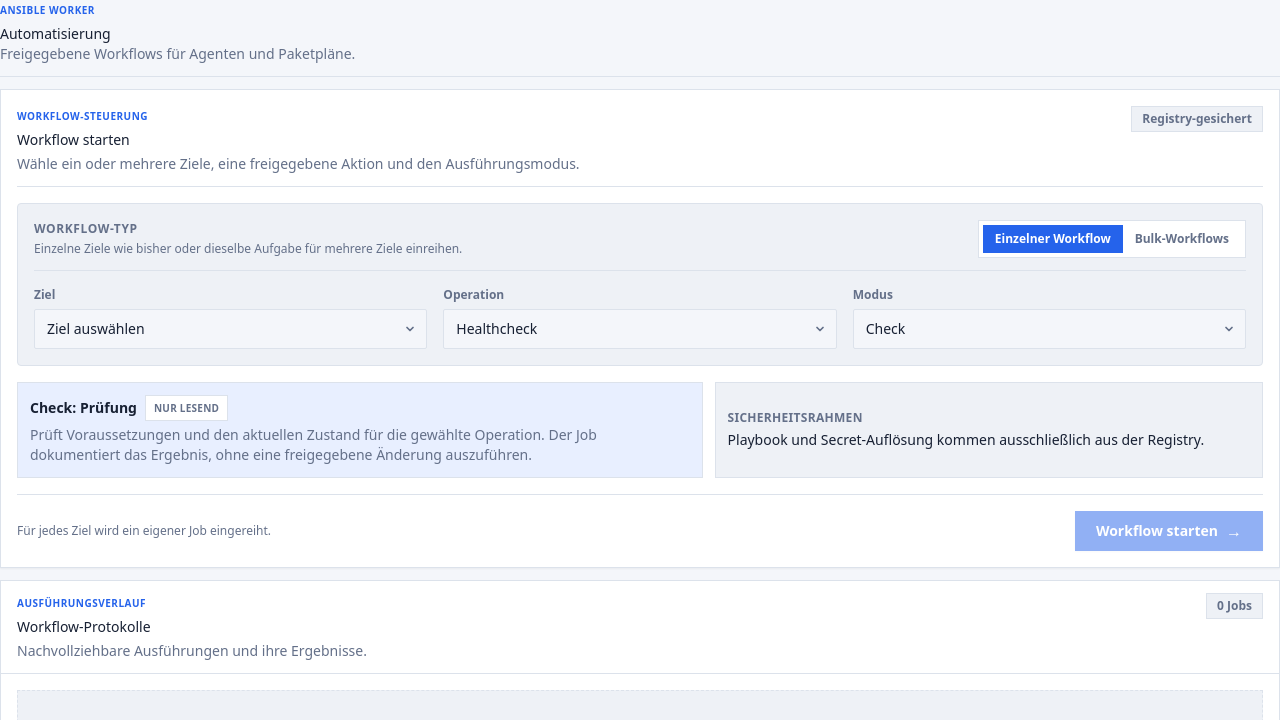
it: workflow mode contract › shows available updates in the picker and allows selecting them
The width and height of the screenshot is (1280, 720).
Select "lxc-test · lxc · 192.0.2.1" in the dropdown labelled "Ziel" at (231,329), box [34, 309, 427, 349]
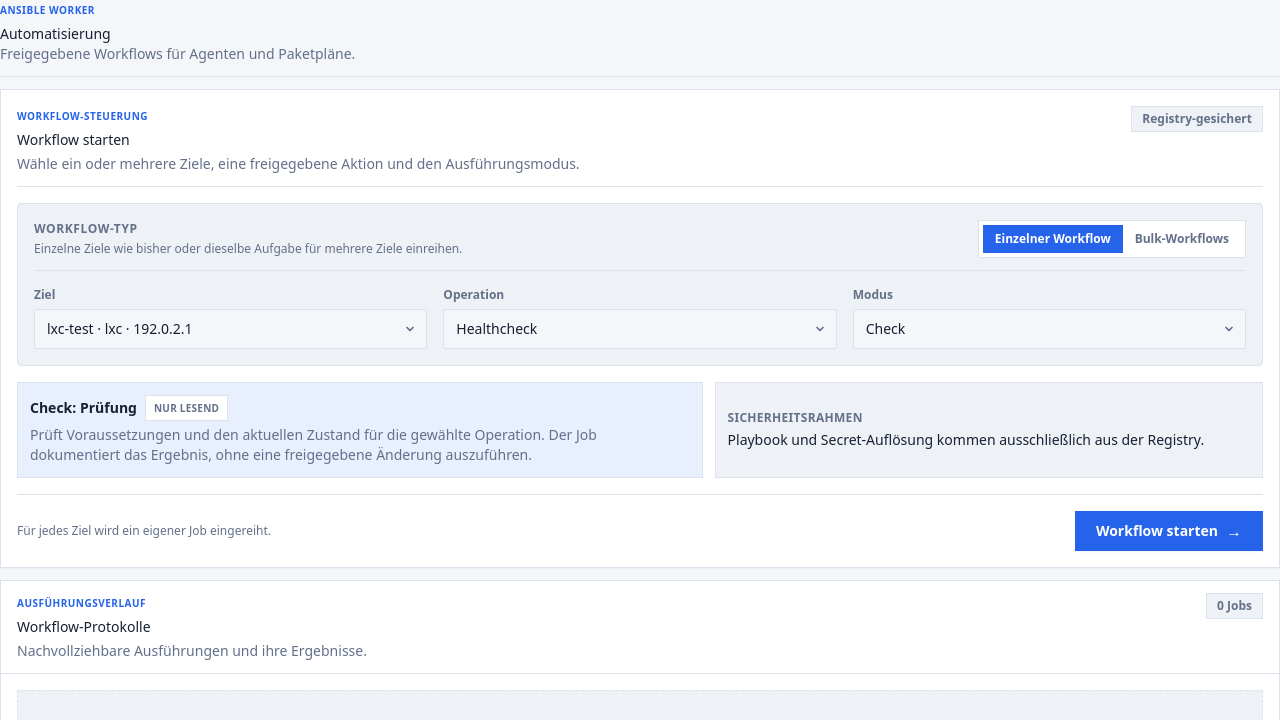
Select "Pakete aktualisieren" in the dropdown labelled "Operation" at (640,329), box [443, 309, 837, 349]
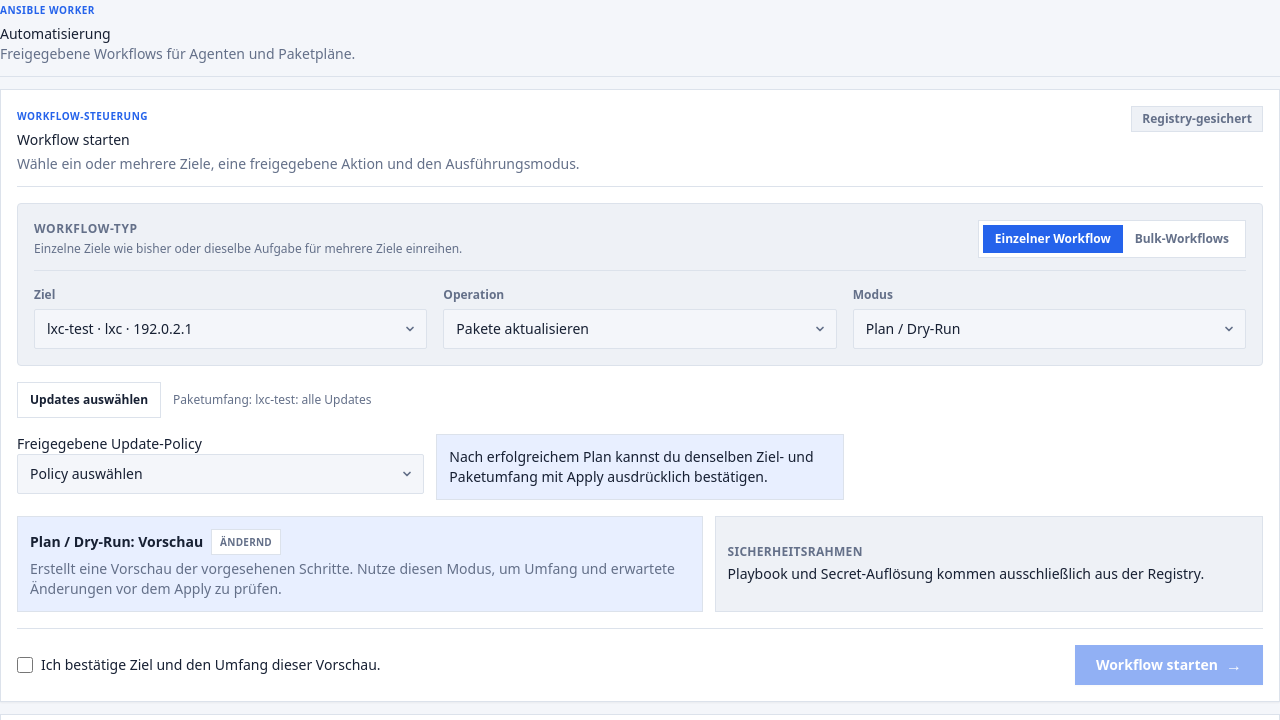
Click the button "Updates auswählen" at (89,400), box [17, 382, 161, 418]
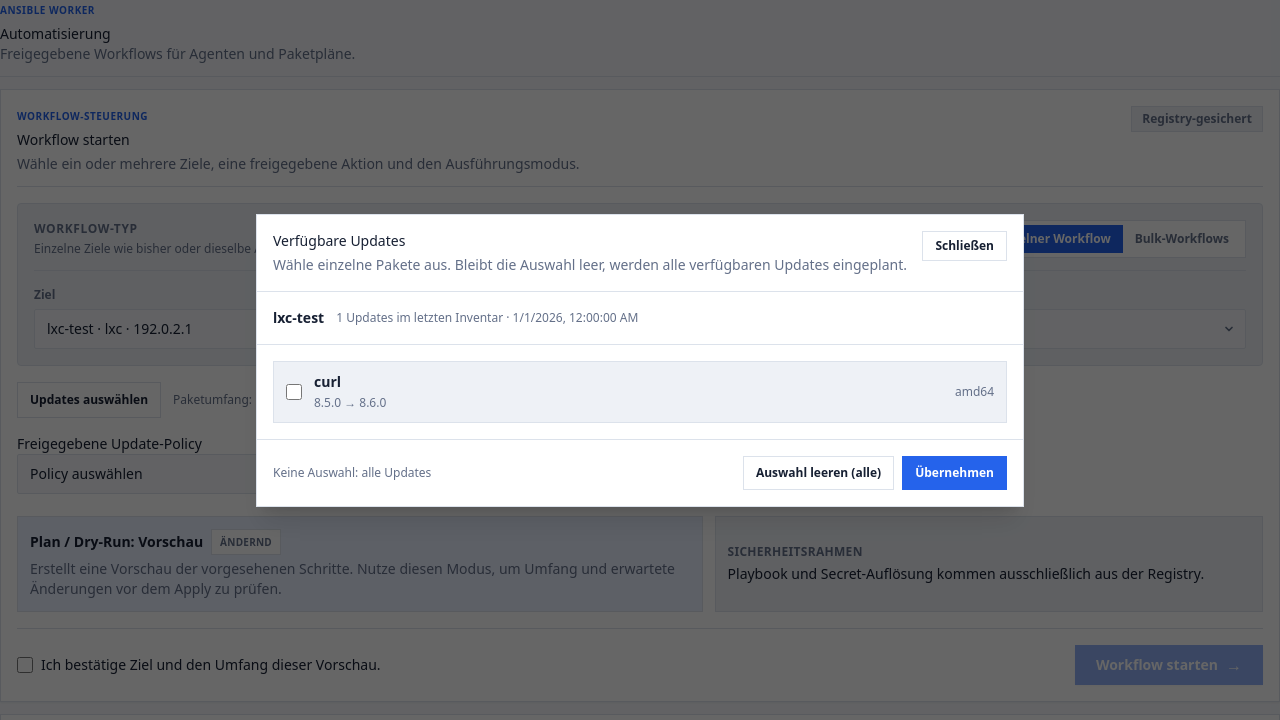
Expected: the text "curl" is shown, [314, 372, 341, 390]
Click the checkbox labelled "curl 8.5.0 → 8.6.0 amd64" at (294,392), box [286, 384, 302, 400]
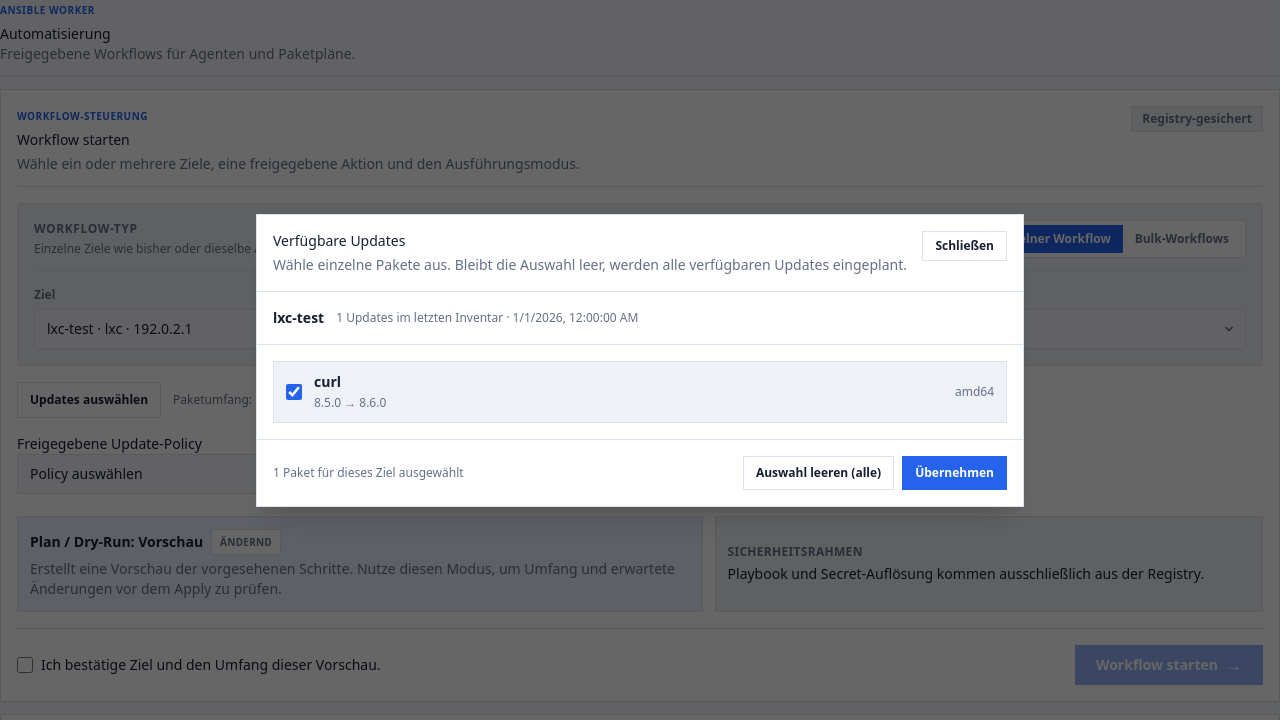
Expected: the text "1 Paket für dieses Ziel ausgewählt" is shown, [273, 464, 464, 480]
